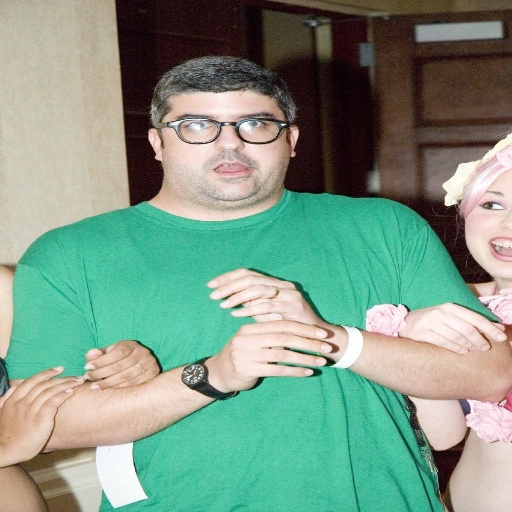hand: (209, 316, 335, 393), (0, 366, 82, 464), (205, 268, 326, 329), (375, 299, 498, 359), (81, 338, 158, 390)
